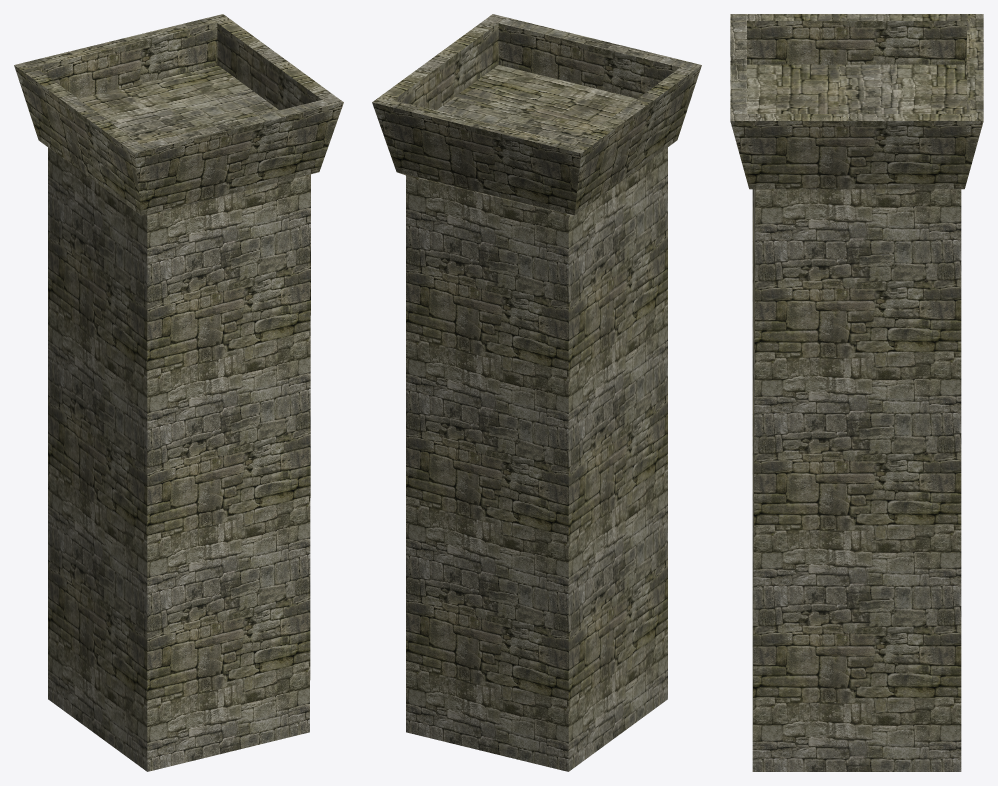
The model's file is tower1_LOD2.fbx.
3 views of the same model, side by side, from view 1: azimuth 30°, elevation 25°; view 2: azimuth 150°, elevation 25°; view 3: azimuth 270°, elevation 25° (orthographic). The views are drawn at different scales.
Parts seen in each view (by area): view 1: Default_Layer; view 2: Default_Layer; view 3: Default_Layer.
Boxes of the visible parts, box(x1,y1,x2,y2) form: Default_Layer: box(14, 14, 343, 771); Default_Layer: box(372, 14, 701, 771); Default_Layer: box(730, 14, 983, 771).
Bounding box in the file's own units: 1023 × 2953 × 1023.
